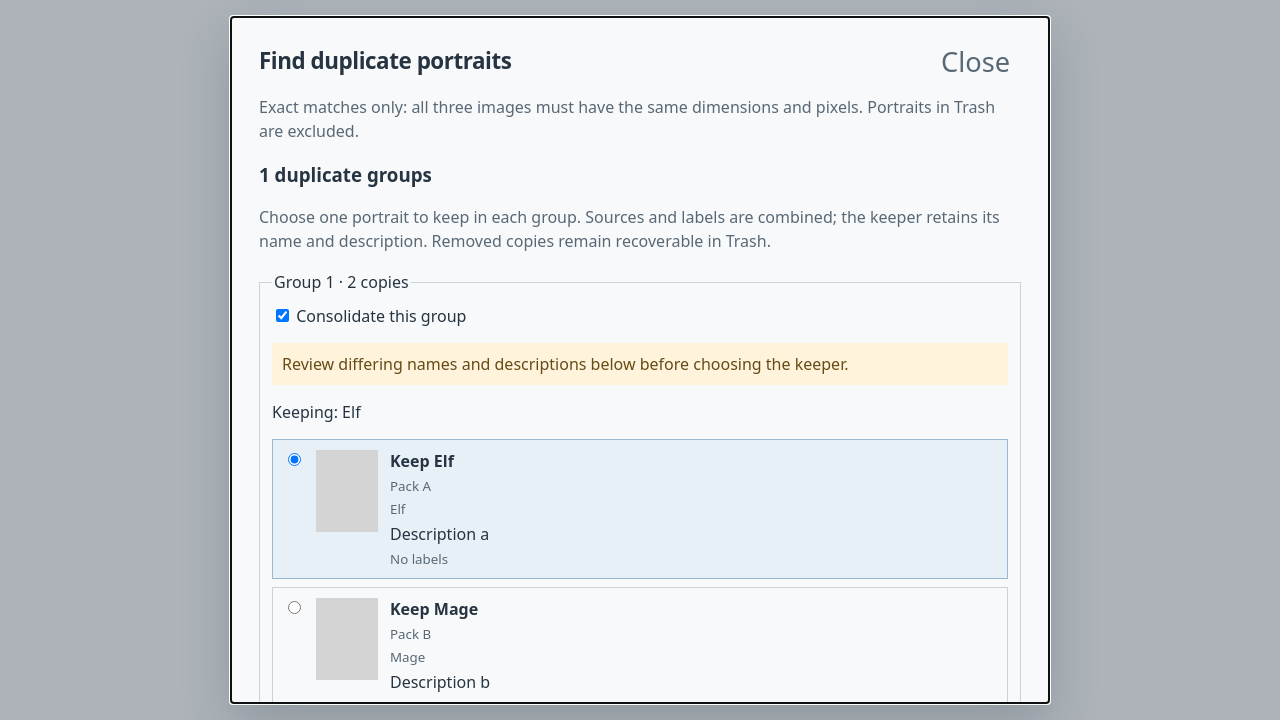
Test: lets the user change the keeper and requires confirmation before moving duplicates to Trash
The width and height of the screenshot is (1280, 720).
Expected: the text "Review differing names and descriptions" is shown, [272, 343, 1008, 385]
Click the radio button labelled "Keep Mage Pack B Mage Description b No labels".
click(294, 608)  # box [288, 601, 301, 614]
(page scrolled)
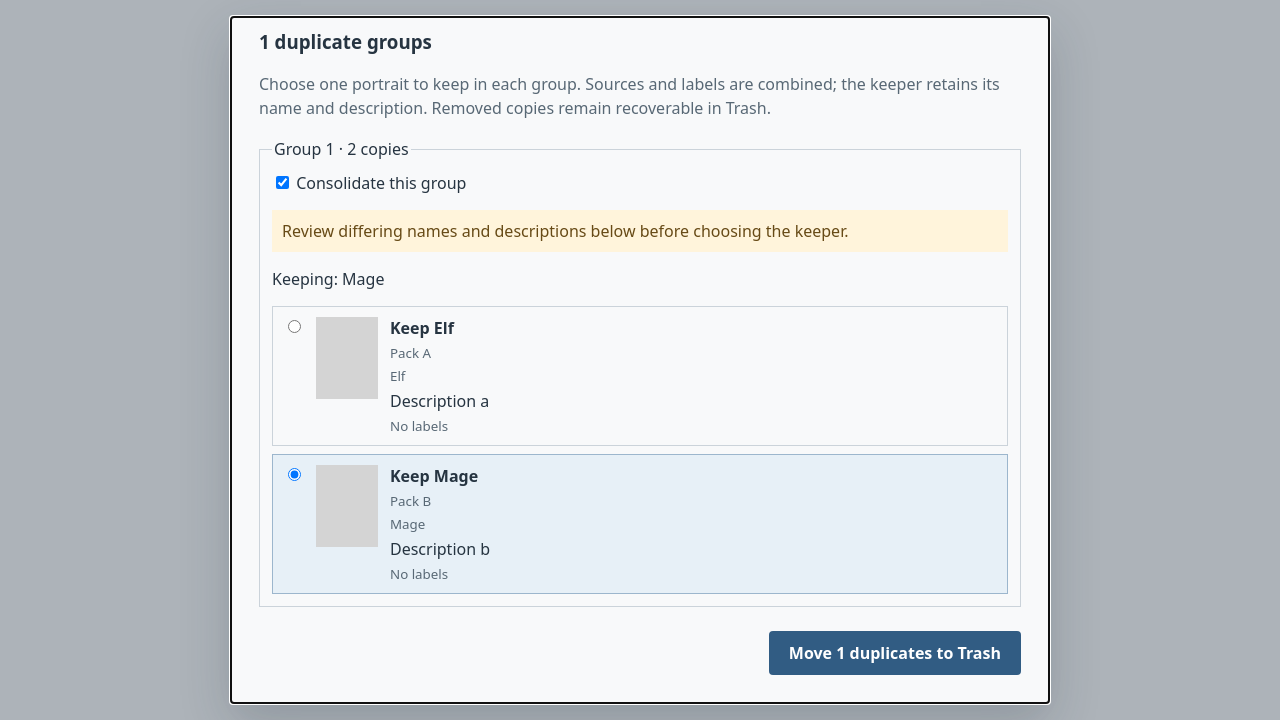
Click the button "Move 1 duplicates to Trash".
click(895, 653)  # box [769, 631, 1021, 675]
(page scrolled)
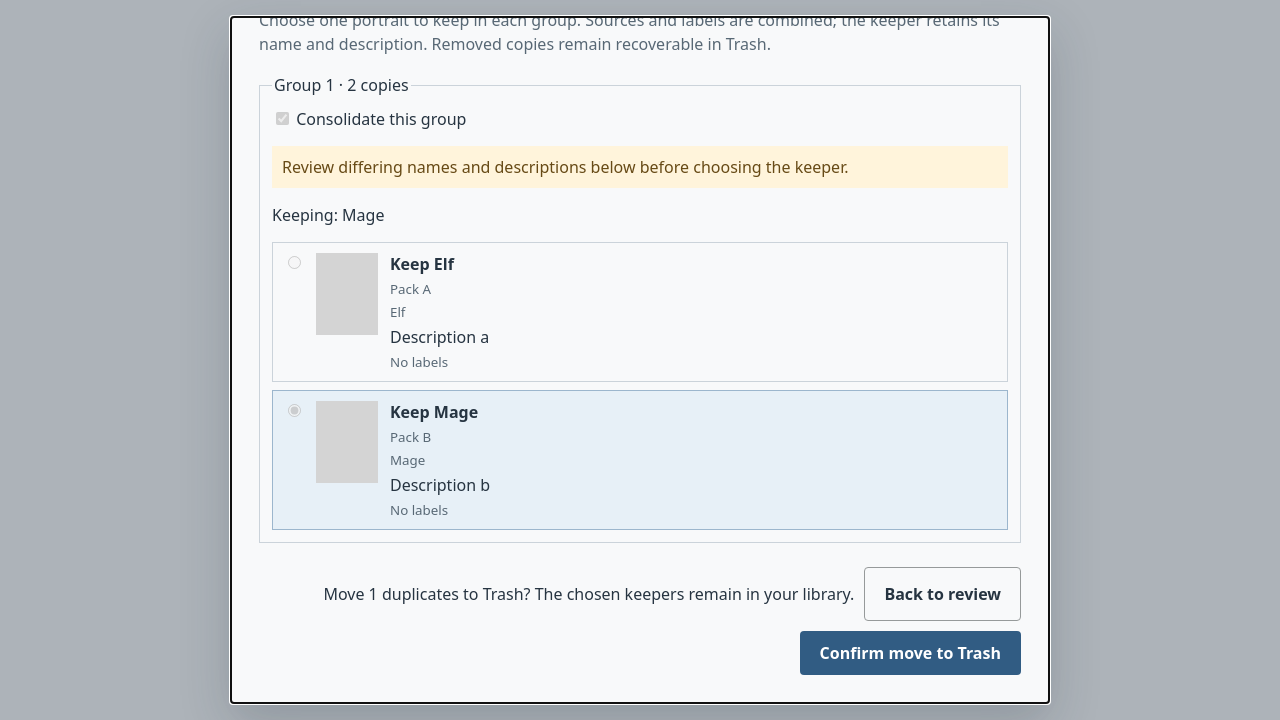
Click the button "Confirm move to Trash".
click(910, 653)  # box [800, 631, 1021, 675]
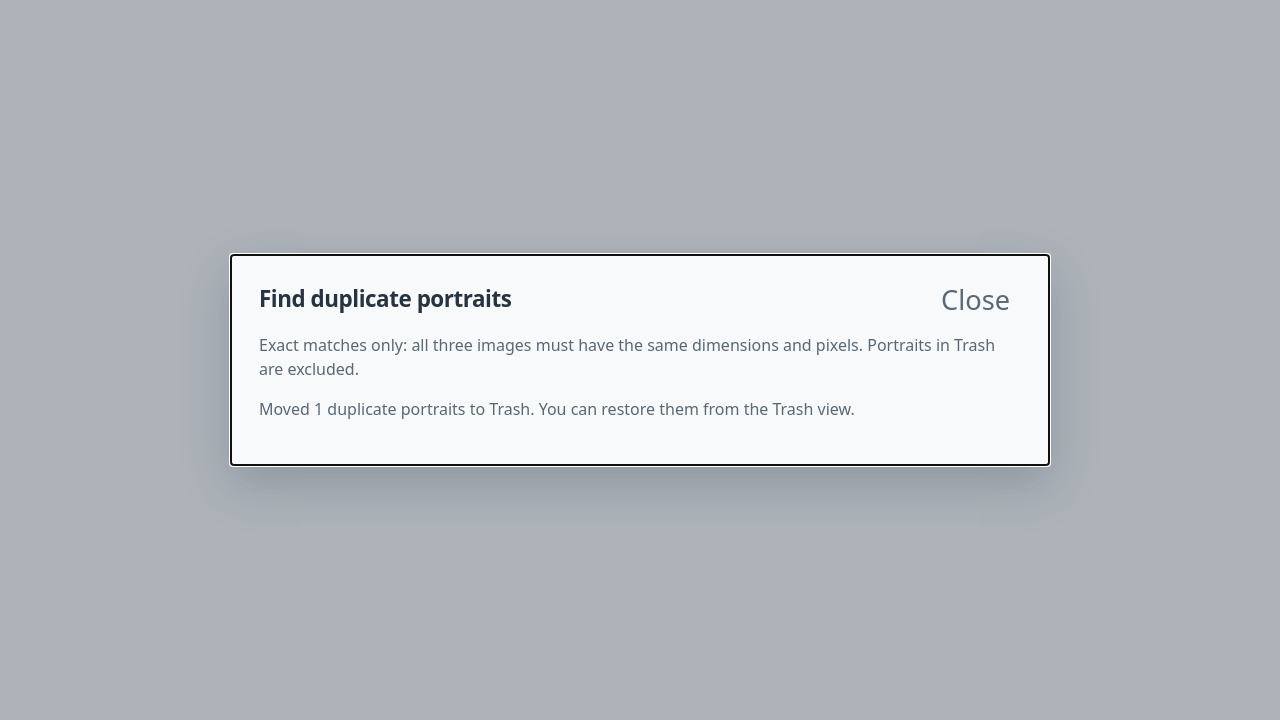
Expected: the message is shown, [259, 398, 855, 420]
